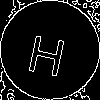H: (25, 25, 70, 77)
